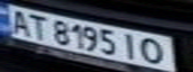1: (66, 21, 84, 50)
5: (100, 26, 121, 56)
8: (48, 17, 72, 46)
9: (78, 24, 100, 52)
A: (3, 7, 33, 36)
I: (118, 30, 145, 61)
O: (136, 35, 172, 65)
T: (24, 11, 51, 39)
